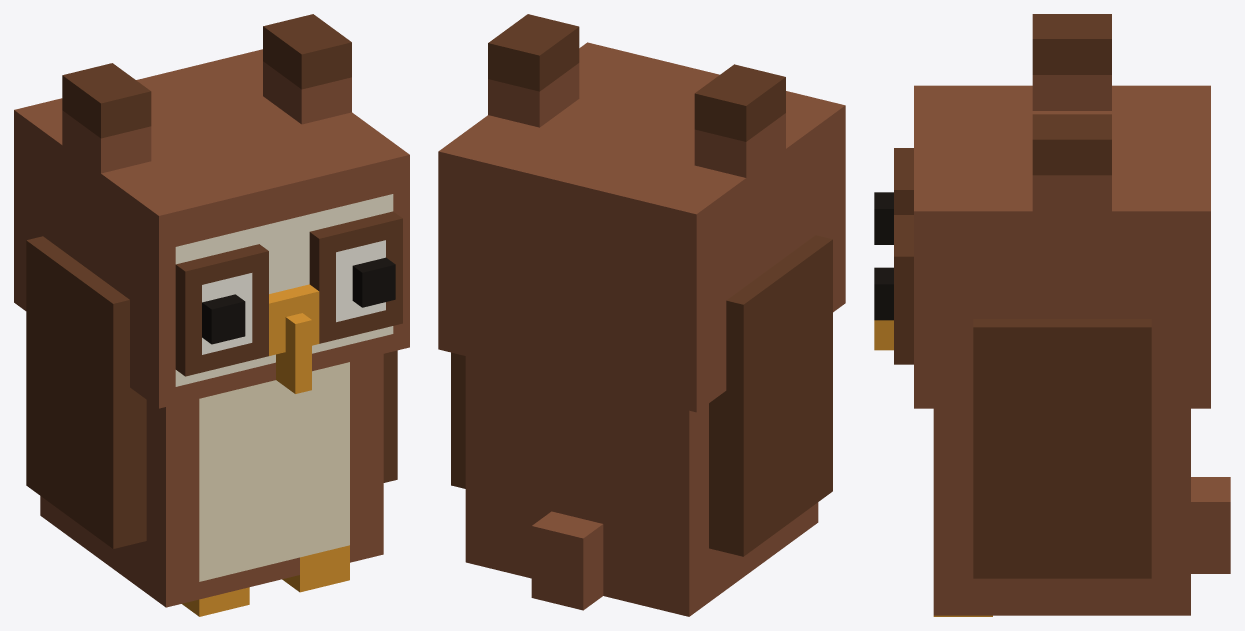
Rendered from owl.vox.obj.
The picture shows the model from 3 angles, left to right: view 1: azimuth 30°, elevation 25°; view 2: azimuth 150°, elevation 25°; view 3: azimuth 270°, elevation 25°; orthographic projection. The views are drawn at different scales.
Bounding box in the file's own units: 1.7 × 2.8 × 1.8.
1 material, 1 textured.
